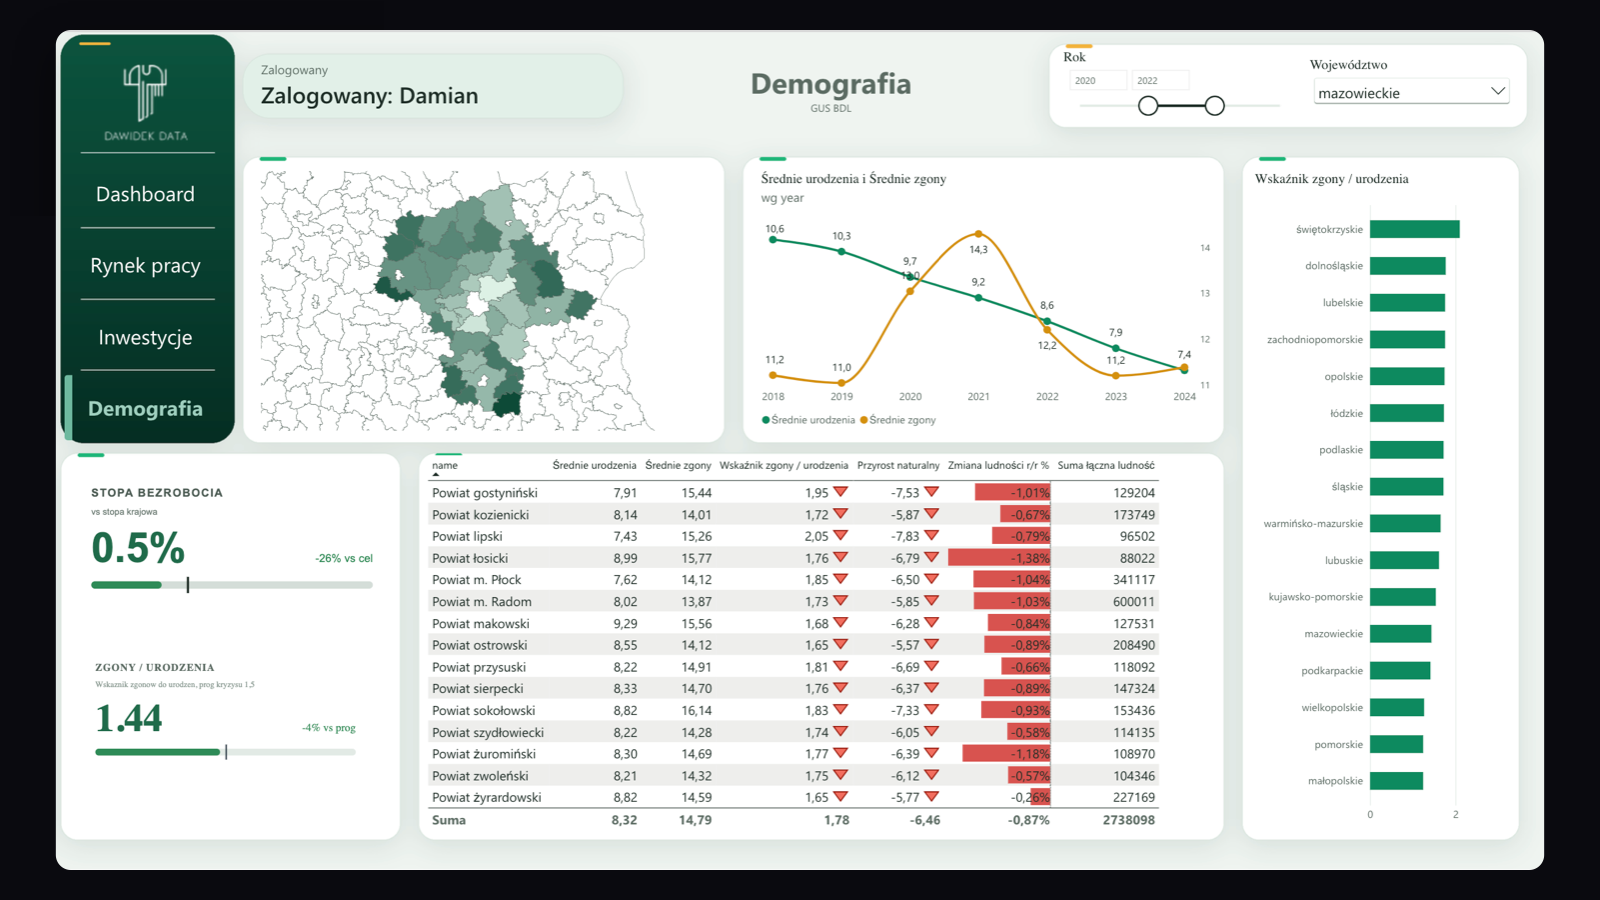

Layout of this report page (visuals, bound fields, positions):
{"tool":"powerbi","page":{"name":"Demografia","canvas":[1920,1080],"ordinal":3},"visuals":[{"type":"slicer","title":"Rok","fields":{"Values":["public dim_year.year"]},"box":[1296.8,21.5,296.3,90.2],"z":0},{"type":"slicer","title":"Województwo","fields":{"Values":["public dim_units.voivodeship_name","public dim_units.name"]},"box":[1613.3,31,262.6,76.8],"z":1000},{"type":"textbox","box":[751.4,37.7,491.5,70],"z":2000},{"type":"cardVisual","fields":{"Data":["_Measures.Zalogowany"]},"box":[247.8,37.7,471.3,60.6],"z":3000},{"type":"pageNavigator","box":[12.1,164.3,208.7,363.6],"z":4000},{"type":"tableEx","fields":{"Values":["_Measures.KPI zgony SVG"]},"box":[12.1,767.6,424.2,278.8],"z":5000},{"type":"tableEx","fields":{"Values":["_Measures.KPI stopa SVG"]},"box":[5.4,542.7,445.7,227.6],"z":6000},{"type":"shapeMap","fields":{"Category":["public dim_units.Klucz mapy"],"Value":["_Measures.Wskaźnik zgony / urodzenia"]},"box":[247.8,164.3,608.7,363.6],"z":7000},{"type":"lineChart","fields":{"Category":["public dim_year.year"],"Y":["_Measures.Średnie urodzenia"],"Y2":["_Measures.Średnie zgony"]},"box":[891.5,164.3,611.4,363.6],"z":8000},{"type":"clusteredBarChart","title":"Wskaźnik zgony / urodzenia","fields":{"Category":["public dim_units.voivodeship_name"],"Y":["_Measures.Wskaźnik zgony / urodzenia"]},"box":[1527.1,164.3,348.8,871.3],"z":9000},{"type":"tableEx","fields":{"Values":["public dim_units.name","_Measures.Średnie urodzenia","_Measures.Średnie zgony","_Measures.Wskaźnik zgony / urodzenia","_Measures.Przyrost naturalny","_Measures.Zmiana ludności r/r %","_Measures.Suma łączna ludność"]},"box":[468.6,542.7,1034.2,492.9],"z":10000}]}

Visuals, with their boxes in screenshot pixels (x1, y1, x2, y2), scaled from the page's 1920x1080 canvas onto the 1600x900 screenshot:
"Rok" slicer: [left=1081, top=18, right=1328, bottom=93]
"Województwo" slicer: [left=1344, top=26, right=1563, bottom=90]
textbox: [left=626, top=31, right=1036, bottom=90]
cardVisual - _Measures.Zalogowany: [left=207, top=31, right=599, bottom=82]
pageNavigator: [left=10, top=137, right=184, bottom=440]
tableEx - _Measures.KPI zgony SVG: [left=10, top=640, right=364, bottom=872]
tableEx - _Measures.KPI stopa SVG: [left=5, top=452, right=376, bottom=642]
shapeMap - public dim_units.Klucz mapy x _Measures.Wskaźnik zgony / urodzenia: [left=207, top=137, right=714, bottom=440]
lineChart - public dim_year.year x _Measures.Średnie urodzenia: [left=743, top=137, right=1252, bottom=440]
"Wskaźnik zgony / urodzenia" clusteredBarChart: [left=1273, top=137, right=1563, bottom=863]
tableEx - public dim_units.name x _Measures.Średnie urodzenia: [left=391, top=452, right=1252, bottom=863]
